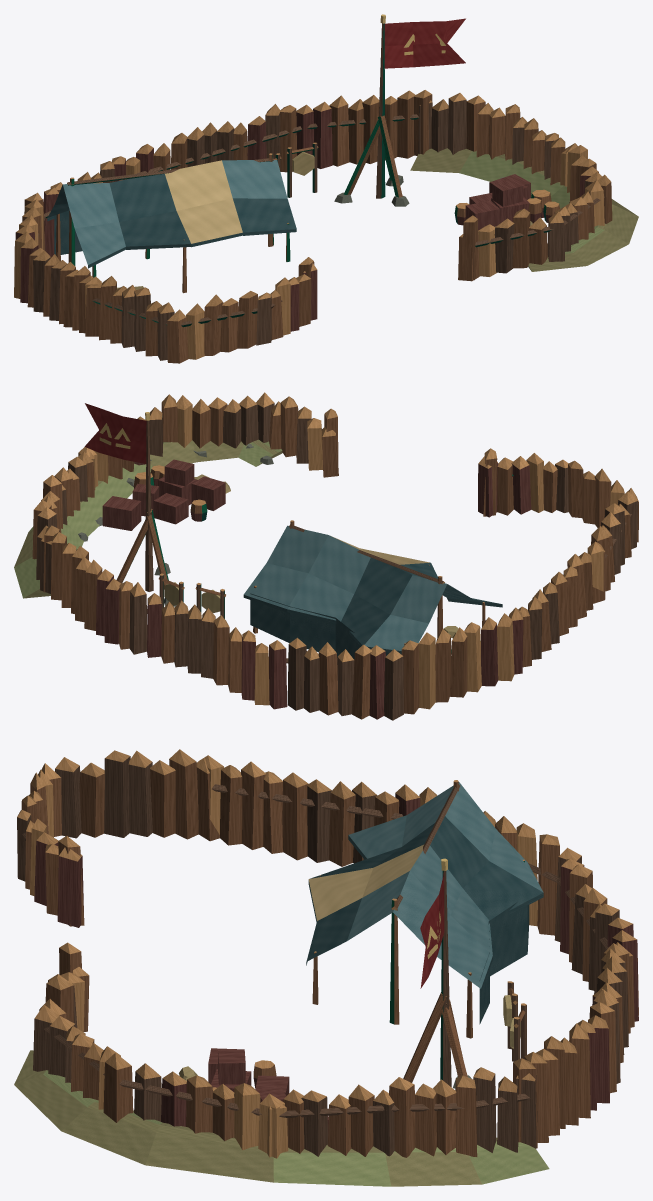
Rendered from marches-road-camp-fit-regional.glb.
3 renders of one model, top to bottom at view 1: azimuth 30°, elevation 25°; view 2: azimuth 150°, elevation 25°; view 3: azimuth 270°, elevation 25°, orthographic. The views are drawn at different scales.
Parts seen in each view (by area): view 1: Forward camp · regional composite; view 2: Forward camp · regional composite; view 3: Forward camp · regional composite.
Part boxes in pixels (box(x1,y1,x2,y2)): Forward camp · regional composite: box(14, 14, 638, 363); Forward camp · regional composite: box(14, 392, 638, 720); Forward camp · regional composite: box(14, 749, 638, 1186).
Bounding box in the file's own units: 29.74 × 11.06 × 22.21.
1 material, 1 textured.
